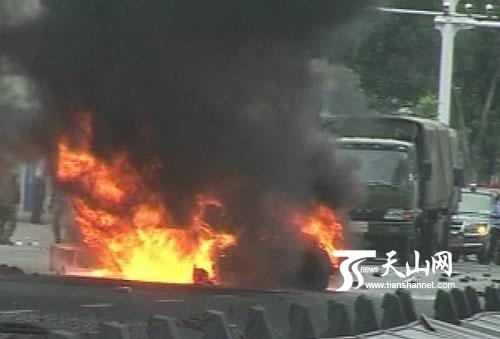fire: (55, 121, 234, 283), (300, 205, 343, 264)
